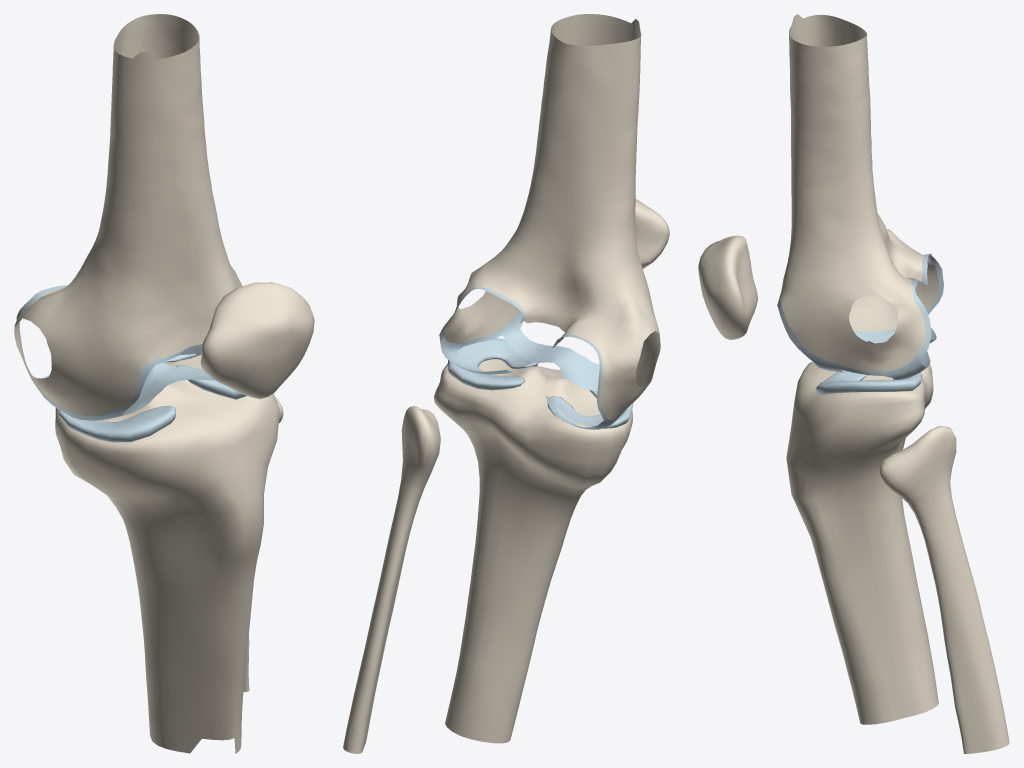
The model's file is knee.glb.
3 views of the same model, side by side, from view 1: azimuth 30°, elevation 25°; view 2: azimuth 150°, elevation 25°; view 3: azimuth 270°, elevation 25° (orthographic). The views are drawn at different scales.
Visible parts, largest first — view 1: Femur_distal, Tibia_proximal, Patella, Menisci, Articular_cartilage; view 2: Femur_distal, Tibia_proximal, Fibula_proximal, Articular_cartilage, Menisci, Patella; view 3: Femur_distal, Tibia_proximal, Fibula_proximal, Patella, Articular_cartilage, Menisci.
Boxes of the visible parts, x1,y1,x2,y2 form: Femur_distal: (14, 14, 242, 416); Tibia_proximal: (55, 354, 279, 753); Patella: (200, 282, 314, 399); Menisci: (58, 353, 246, 442); Articular_cartilage: (16, 285, 214, 420); Femur_distal: (444, 14, 660, 420); Tibia_proximal: (434, 359, 632, 743); Fibula_proximal: (343, 406, 440, 753); Articular_cartilage: (439, 287, 636, 429); Menisci: (448, 338, 632, 428); Patella: (635, 199, 669, 268); Femur_distal: (779, 14, 939, 371); Tibia_proximal: (786, 361, 938, 724); Fibula_proximal: (879, 426, 1009, 753); Patella: (698, 235, 757, 339); Articular_cartilage: (777, 253, 943, 379); Menisci: (813, 339, 921, 395).
Bounding box in the file's own units: 0.7453 × 2 × 0.8617.
